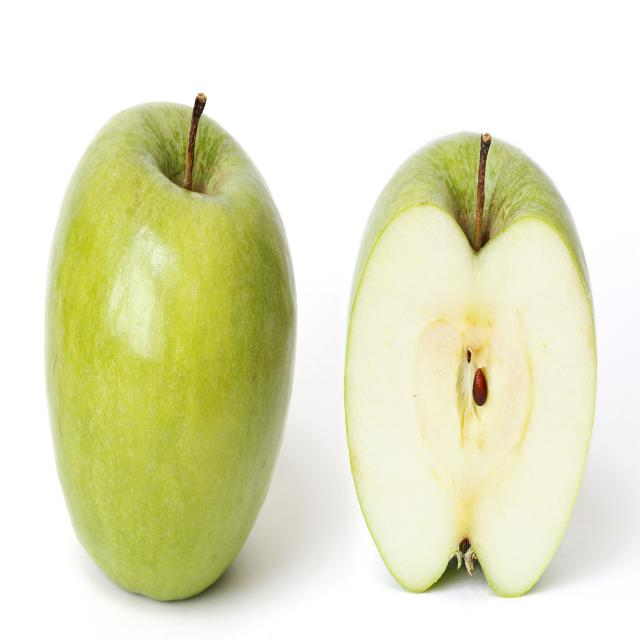manzana: (39, 76, 302, 611), (333, 121, 608, 611)
